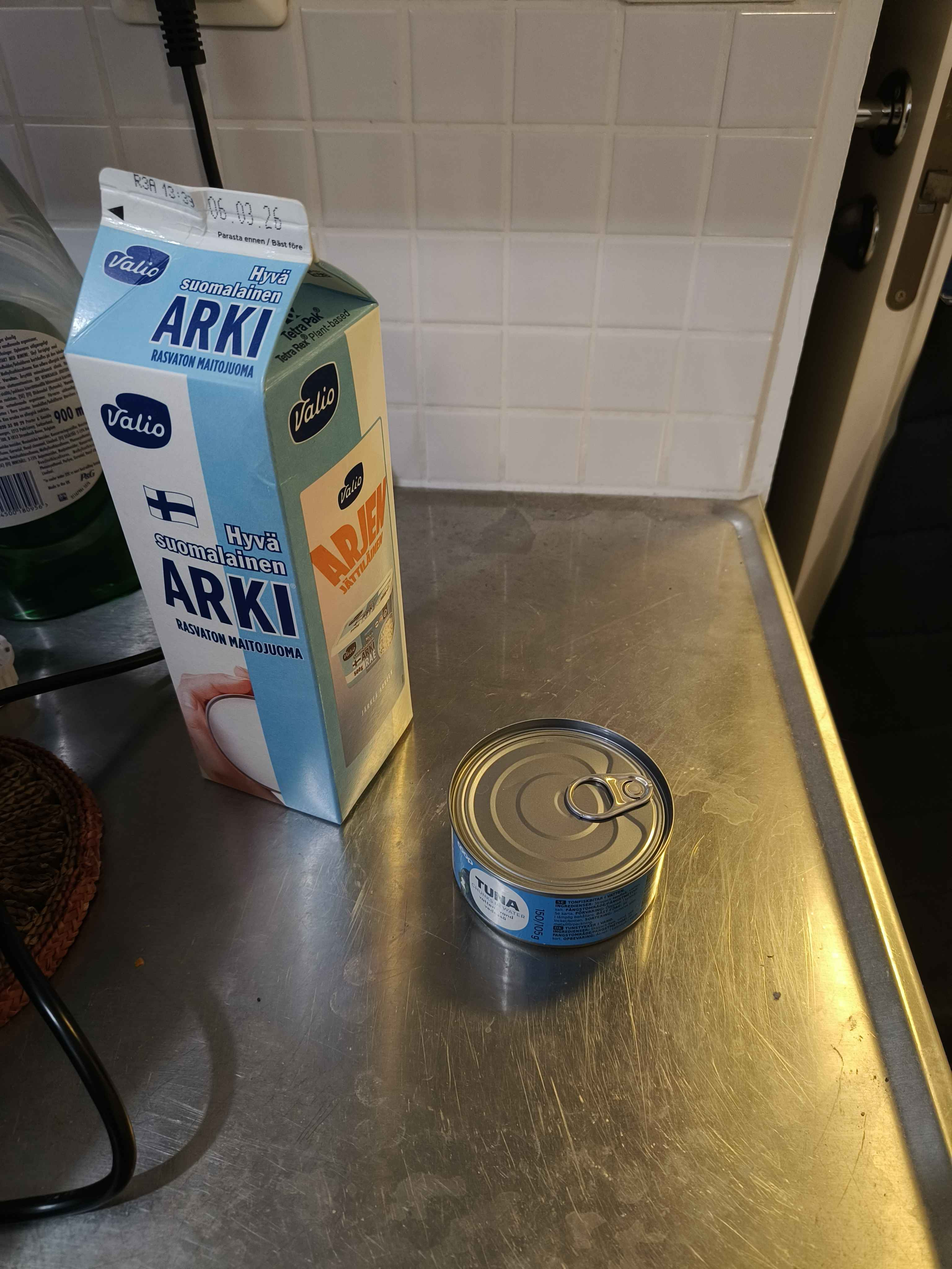Dryckeskartong: (64, 167, 416, 828)
Konservburk: (447, 717, 674, 948)
